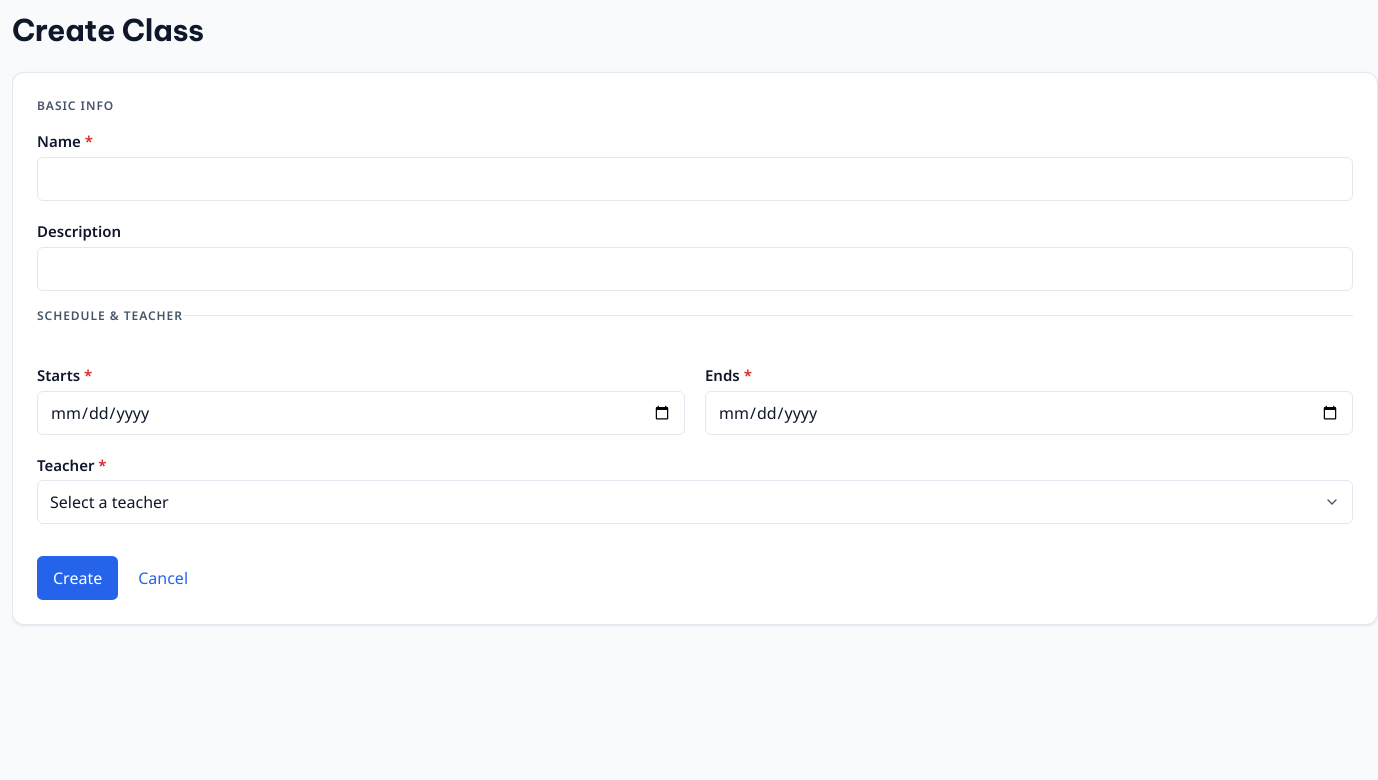
Test case: Admin class create › blocks submit on empty name
Click the button "Create".
click(78, 578)  # box top-left (37, 556), bottom-right (118, 600)
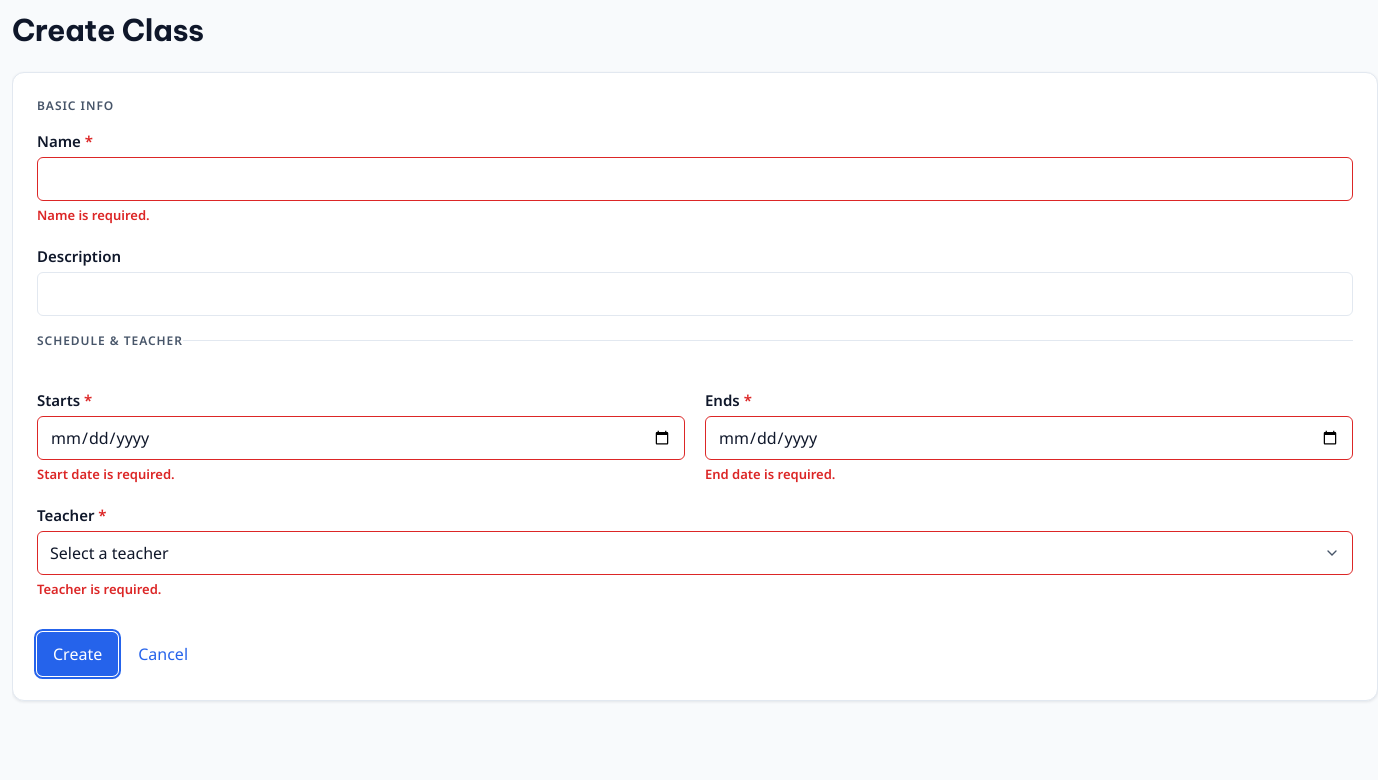
Check: the text "Name is required." is shown, box top-left (37, 206), bottom-right (150, 224)
